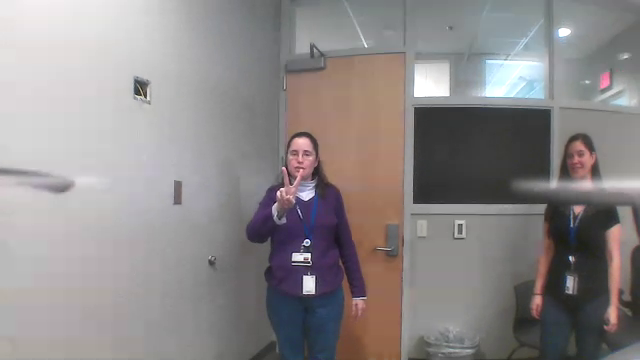peace: (272, 165, 308, 217)
